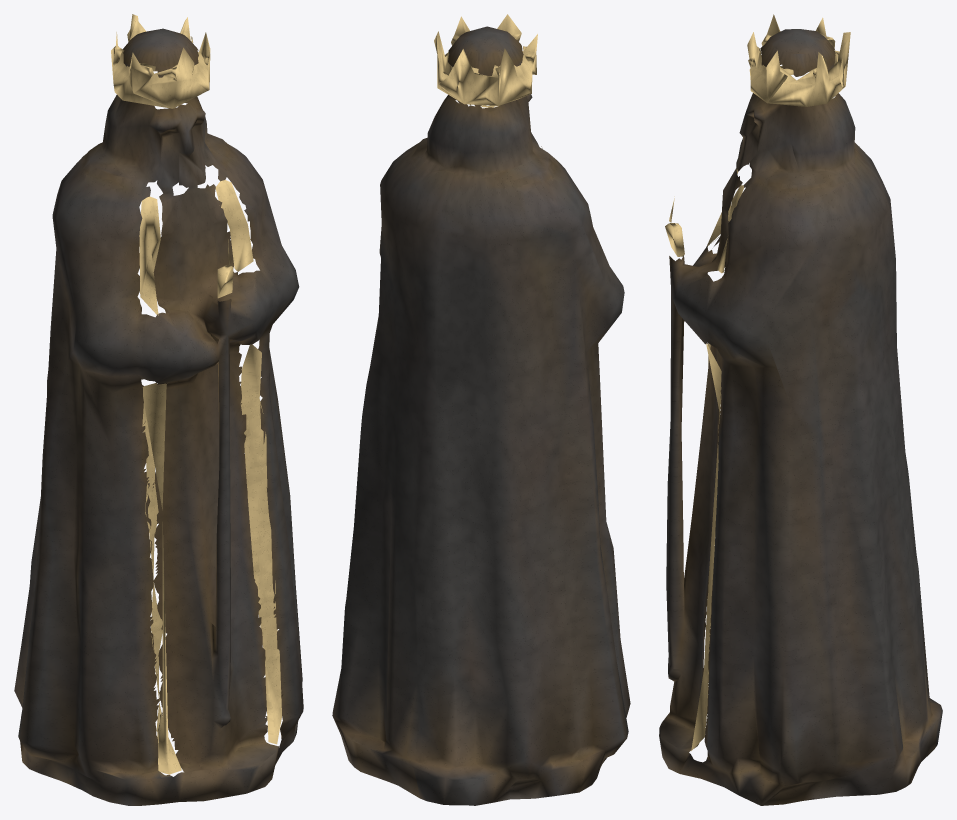
File: Argent_Reliquary_Black_King.glb
3 renders of one model, left to right at view 1: azimuth 30°, elevation 25°; view 2: azimuth 150°, elevation 25°; view 3: azimuth 270°, elevation 25°, orthographic.
Visible parts, largest first — view 1: Argent Reliquary – Black King; view 2: Argent Reliquary – Black King; view 3: Argent Reliquary – Black King.
Boxes of the visible parts, x1,y1,x2,y2 form: Argent Reliquary – Black King: (14, 14, 303, 805); Argent Reliquary – Black King: (332, 14, 630, 805); Argent Reliquary – Black King: (659, 14, 942, 805).
Size of the model in its own units: 0.0383 by 0.0955 by 0.0341.
Materials: 2 (2 with a texture image).
